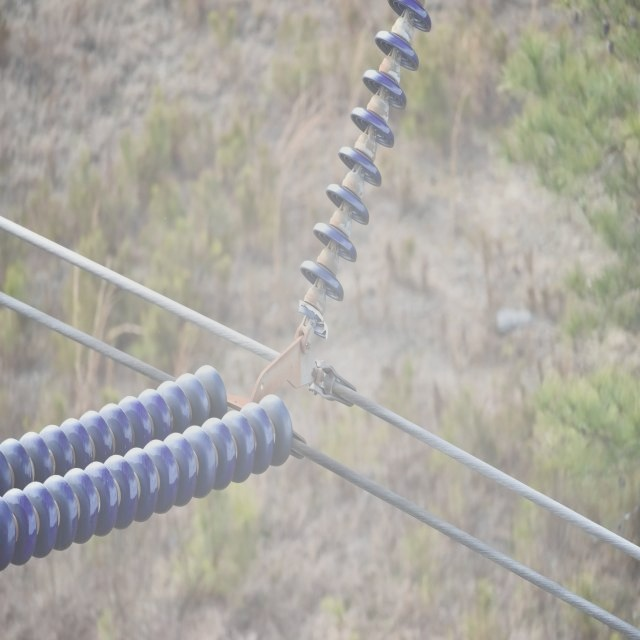broken: (296, 294, 330, 338)
insulator: (0, 363, 294, 569), (292, 1, 430, 342)
